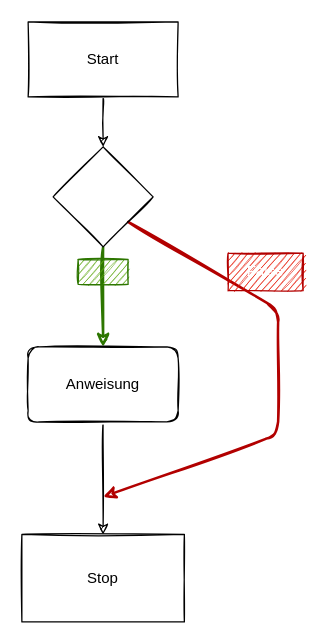
Some shapes in this 325 by 644 pixel diagram are drawn without their labels. The centre of each missing label's shape, as x and y in pixels:
a > b: point 102,196
True: point 102,271
